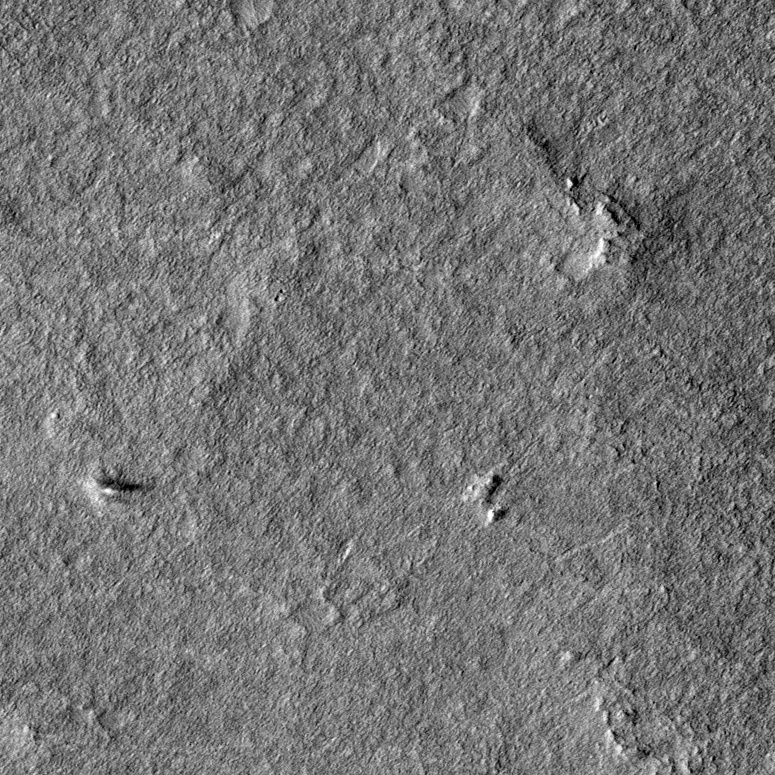dust_devil: (82, 474, 156, 506)
